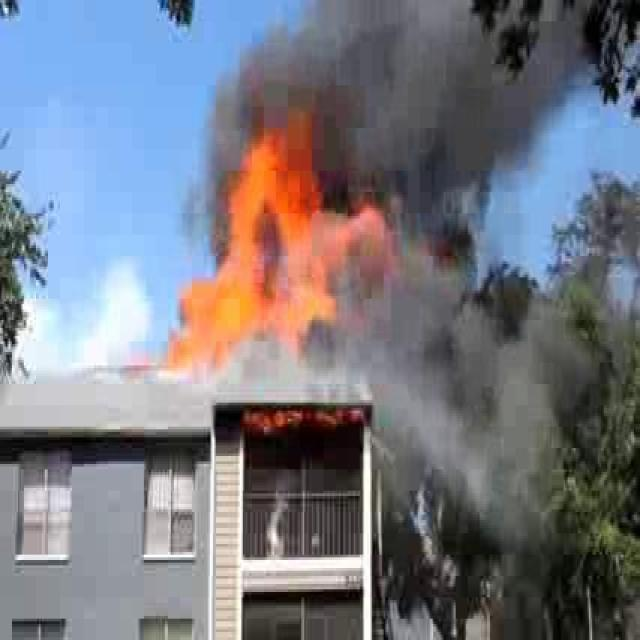fire: (164, 129, 378, 408)
smoke: (324, 17, 547, 175), (396, 283, 545, 498)
